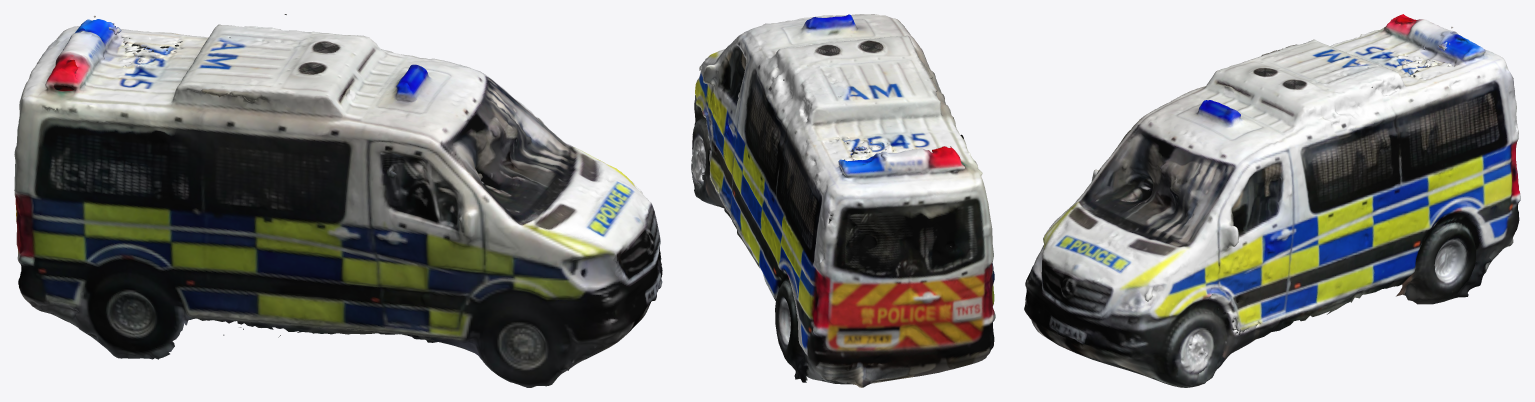
The model's file is asset.glb.
3 views of the same model, side by side, from view 1: azimuth 30°, elevation 25°; view 2: azimuth 150°, elevation 25°; view 3: azimuth 270°, elevation 25° (orthographic). The views are drawn at different scales.
Visible parts, largest first — view 1: model; view 2: model; view 3: model.
Part boxes in pixels (x1,y1,x2,y2): model: [14, 14, 662, 387]; model: [691, 14, 995, 387]; model: [1024, 14, 1520, 387].
Bounding box in the file's own units: 2.59 × 1.45 × 2.68.
Materials: 3 (3 with a texture image).
